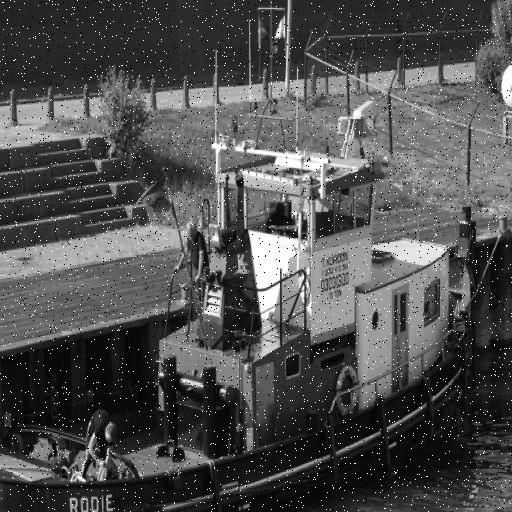tugboat: (1, 94, 491, 512)
